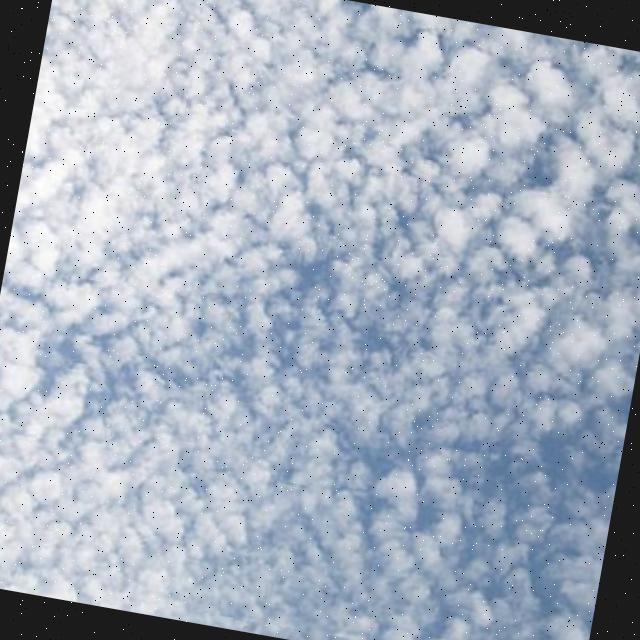Cs: (1, 35, 640, 620)
